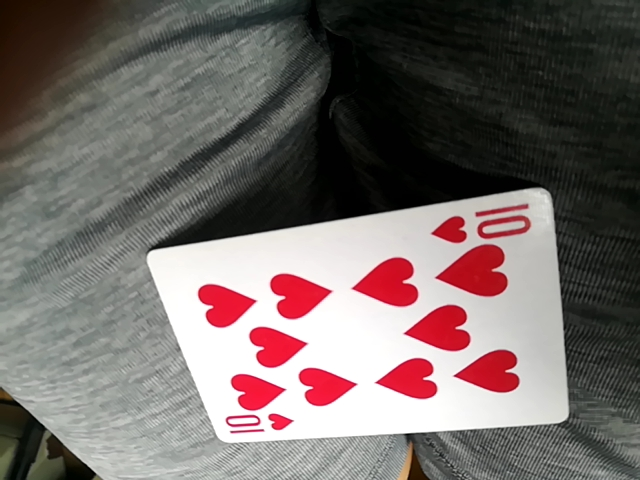hx 10: (144, 189, 572, 445)
